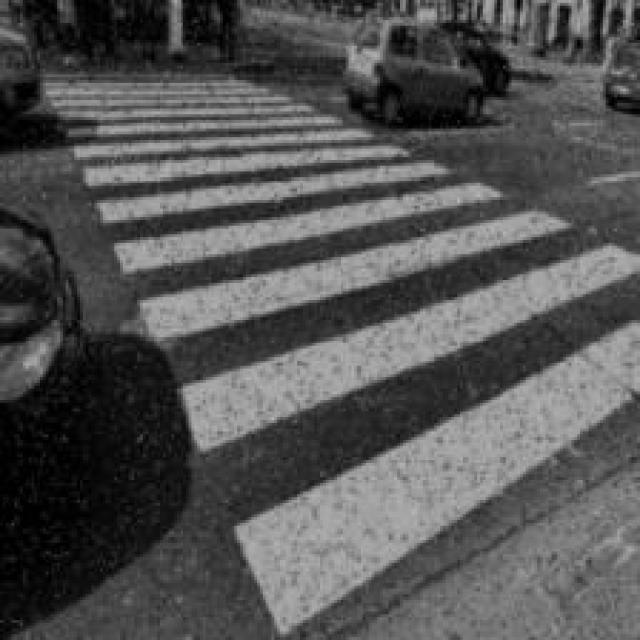zebra: (36, 69, 640, 635)
